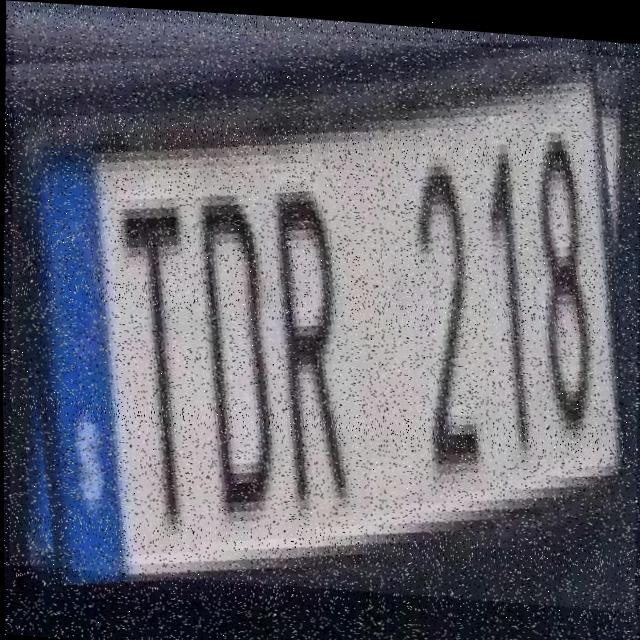LicensePlate: (5, 9, 640, 604)
